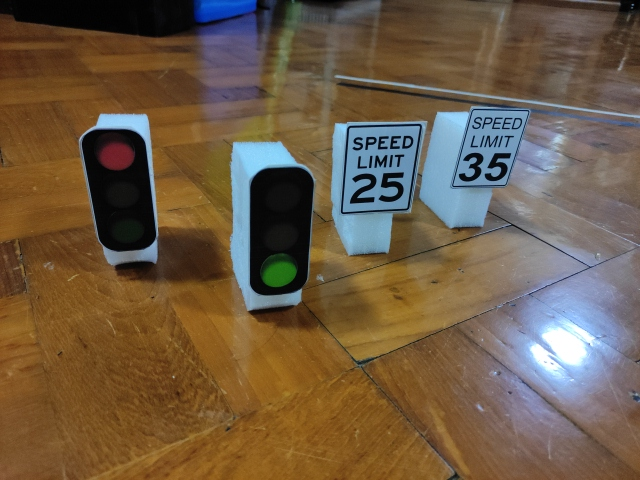Green Traffic Light: (249, 166, 314, 295)
Red Traffic Light: (79, 126, 159, 253)
Speed Limit 25: (340, 123, 424, 214)
Speed Limit 35: (451, 107, 530, 188)
